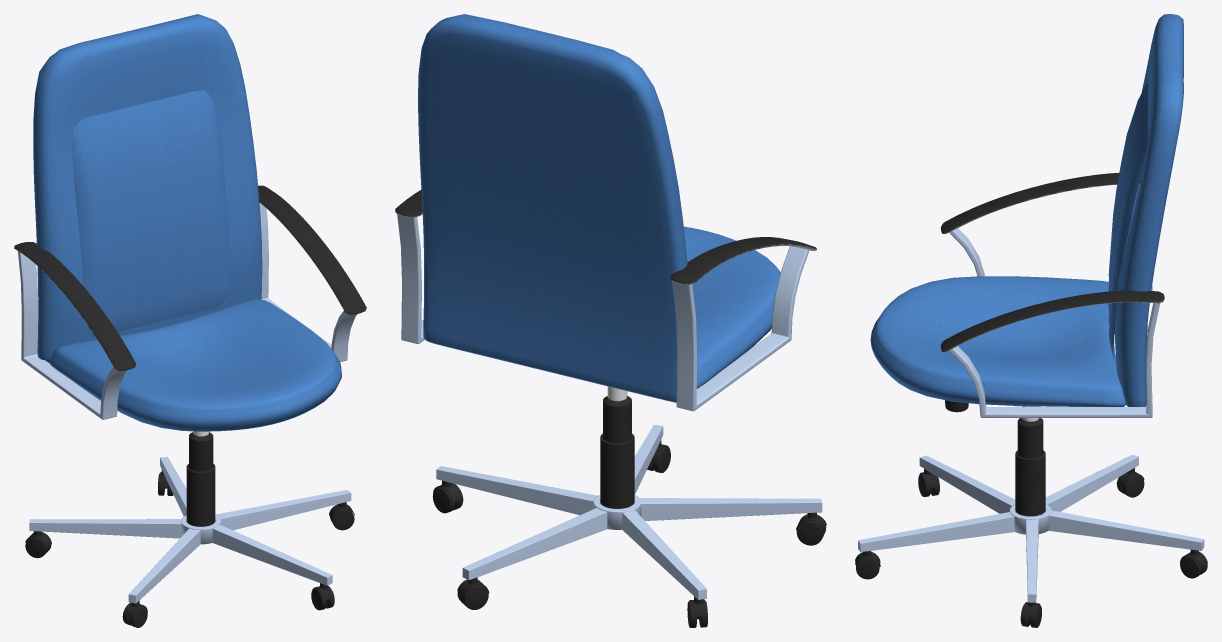
Rendered from Office_chair_geo.fbx.
3 views of the same model, side by side, from view 1: azimuth 30°, elevation 25°; view 2: azimuth 150°, elevation 25°; view 3: azimuth 270°, elevation 25° (orthographic). The views are drawn at different scales.
Visible parts, largest first — view 1: Office_chair_geo; view 2: Office_chair_geo; view 3: Office_chair_geo.
Boxes of the visible parts, x1=… form: Office_chair_geo: x1=14, y1=14, x2=366, y2=627; Office_chair_geo: x1=395, y1=14, x2=826, y2=627; Office_chair_geo: x1=855, y1=14, x2=1207, y2=627.
Size of the model in its own units: 73.78 by 122 by 76.81.
Materials: 1 (1 with a texture image).
